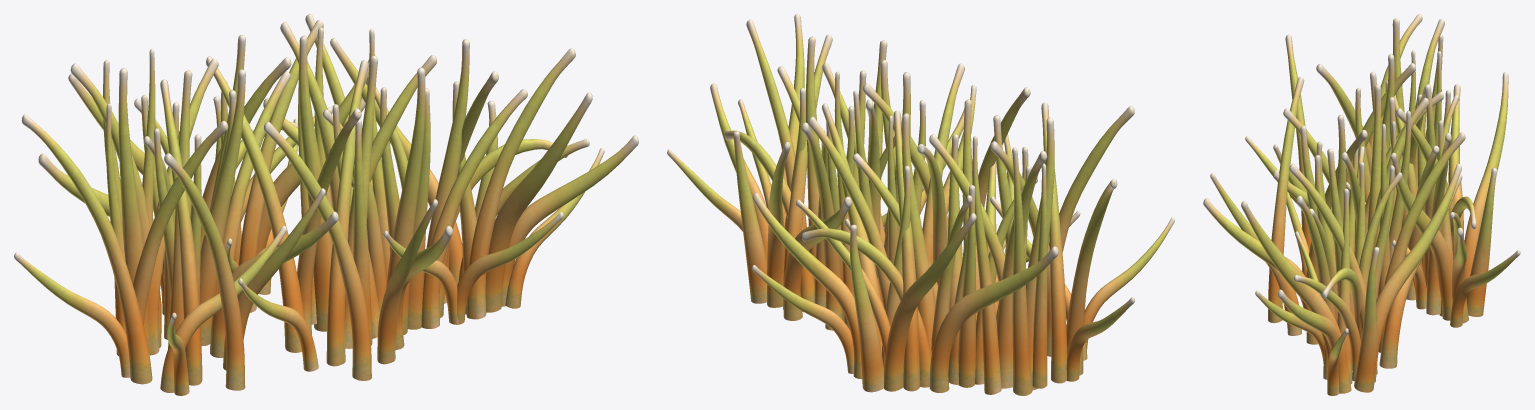
The model's file is haicao_4.fbx.
3 views of the same model, side by side, from view 1: azimuth 30°, elevation 25°; view 2: azimuth 150°, elevation 25°; view 3: azimuth 270°, elevation 25° (orthographic). The views are drawn at different scales.
Parts seen in each view (by area): view 1: objLoft042; view 2: objLoft042; view 3: objLoft042.
Boxes of the visible parts, bbox=[...] form: objLoft042: bbox=[14, 14, 638, 395]; objLoft042: bbox=[667, 14, 1174, 395]; objLoft042: bbox=[1203, 14, 1520, 395].
Bounding box in the file's own units: 1054 × 545 × 653.
Materials: 1 (1 with a texture image).
